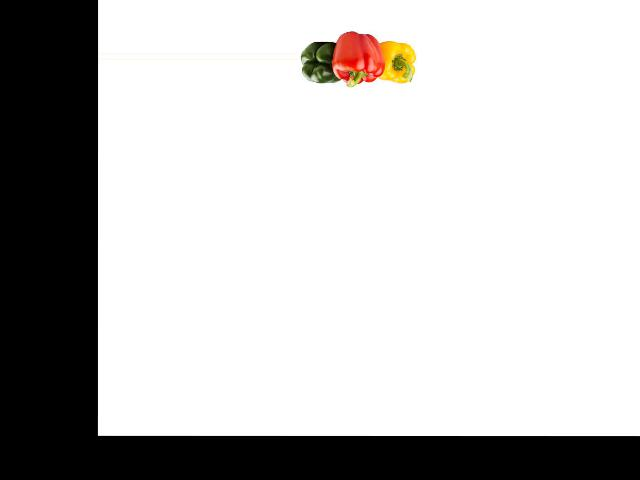bell_pepper: (375, 32, 418, 87)
